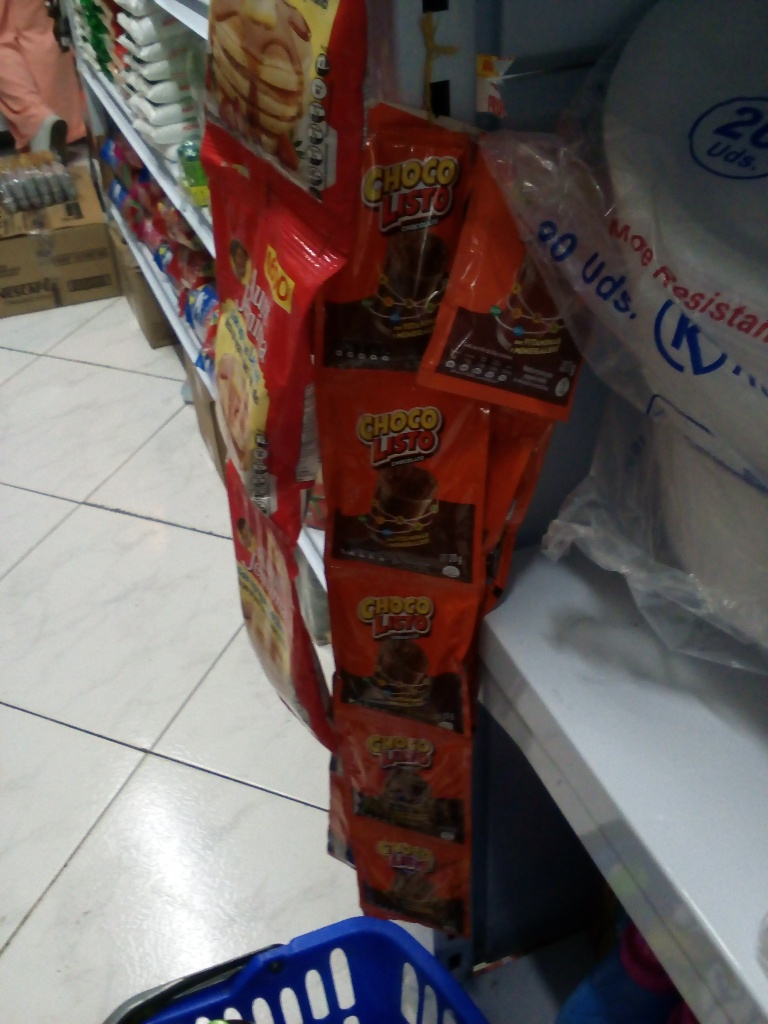COL0170103SOB02000: (318, 126, 477, 368)
